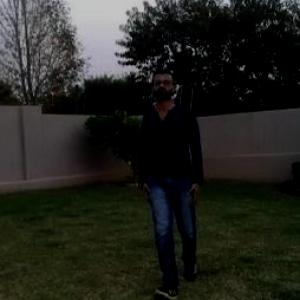follow: (137, 60, 204, 288)
